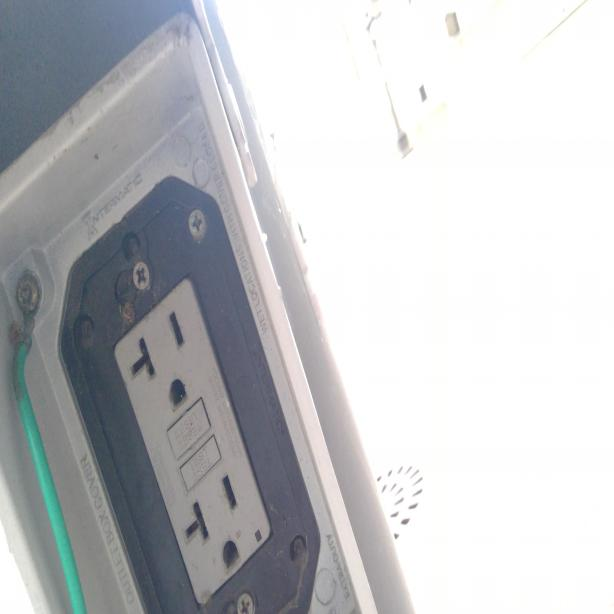typeb: (122, 308, 192, 410), (184, 474, 253, 577)
